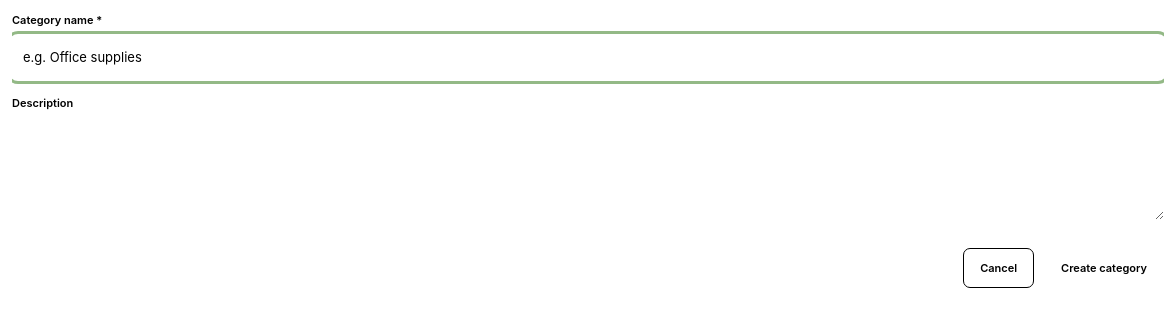
Test: forms › rejects a blank category name
What coordinates should you click on to do the following:
click the button "Create category"
I would click on:
 (1104, 268)
Its box is left=1044, top=248, right=1164, bottom=288.
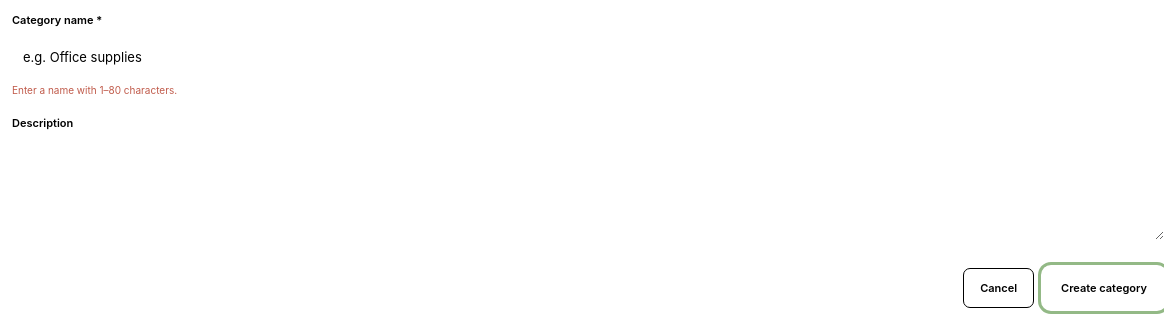
Result: the text "Enter a name with 1–80 characters." is shown at left=12, top=84, right=177, bottom=96
